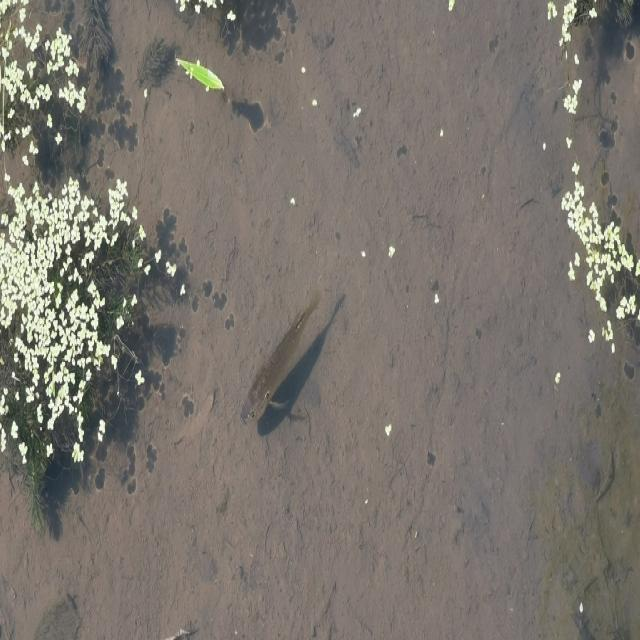Gunes Levregi: (238, 285, 323, 430)
